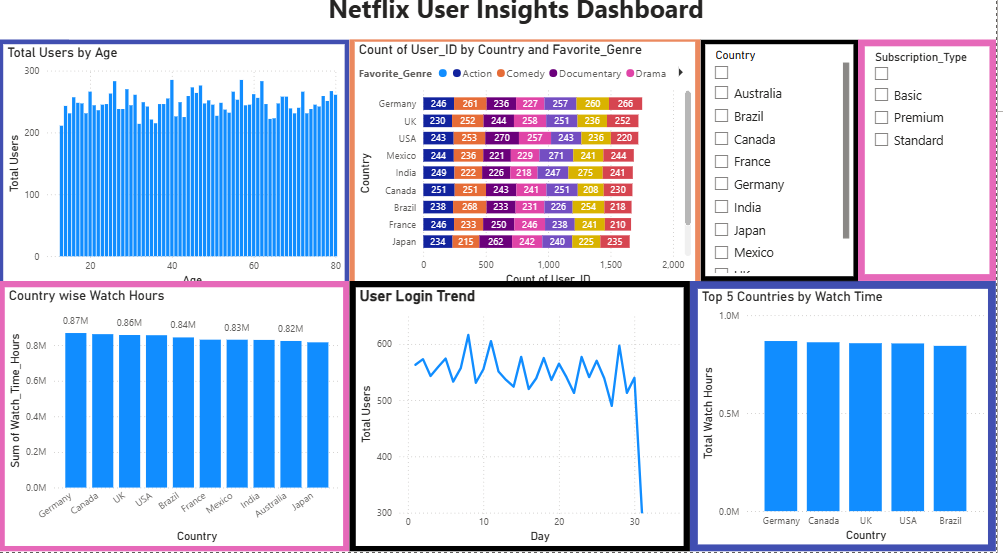

What the dashboard file says about the page in this screenshot:
{"tool":"powerbi","page":{"name":"Page 2","canvas":[1280,720],"ordinal":1},"visuals":[{"type":"lineStackedColumnComboChart","fields":{"Category":["netflix_users.Age"],"Y":["netflix_users.Total Users"]},"box":[9.5,66.8,446.8,324.6],"z":0},{"type":"lineClusteredColumnComboChart","title":"Country wise Watch Hours","fields":{"Category":["netflix_users.Country"],"Y":["Sum(netflix_users.Watch_Time_Hours)"]},"box":[9.5,374.3,446.8,345.6],"z":1000},{"type":"barChart","fields":{"Category":["netflix_users.Country"],"Series":["netflix_users.Favorite_Genre"],"Y":["CountNonNull(netflix_users.User_ID)"]},"box":[456.4,63,446.8,328.4],"z":2000},{"type":"lineChart","title":"User Login Trend","fields":{"Category":["netflix_users.Last_Login.Variation.Date Hierarchy.Day"],"Y":["netflix_users.Total Users"]},"box":[456.4,374.3,433.5,345.6],"z":3000},{"type":"clusteredColumnChart","title":"Top 5 Countries by Watch Time","fields":{"Category":["netflix_users.Country"],"Y":["netflix_users.Total Watch Hours"]},"box":[889.8,374.3,389.5,345.6],"z":4000},{"type":"textbox","box":[99.3,0,1138.1,66.8],"z":5000},{"type":"slicer","fields":{"Values":["netflix_users.Country"]},"box":[903.2,66.8,200.5,307.4],"z":6000},{"type":"slicer","fields":{"Values":["netflix_users.Subscription_Type"]},"box":[1103.7,66.8,175.7,307.4],"z":7000}]}

Visuals, with their boxes in screenshot pixels (x1, y1, x2, y2), scaled from the page's 1280x720 canvas onto the 1003x553 screenshot:
lineStackedColumnComboChart - netflix_users.Age x netflix_users.Total Users: <bbox>7, 51, 358, 301</bbox>
"Country wise Watch Hours" lineClusteredColumnComboChart: <bbox>7, 287, 358, 552</bbox>
barChart - netflix_users.Country x netflix_users.Favorite_Genre: <bbox>358, 48, 708, 301</bbox>
"User Login Trend" lineChart: <bbox>358, 287, 697, 552</bbox>
"Top 5 Countries by Watch Time" clusteredColumnChart: <bbox>697, 287, 1002, 552</bbox>
textbox: <bbox>78, 0, 970, 51</bbox>
slicer - netflix_users.Country: <bbox>708, 51, 865, 287</bbox>
slicer - netflix_users.Subscription_Type: <bbox>865, 51, 1002, 287</bbox>
